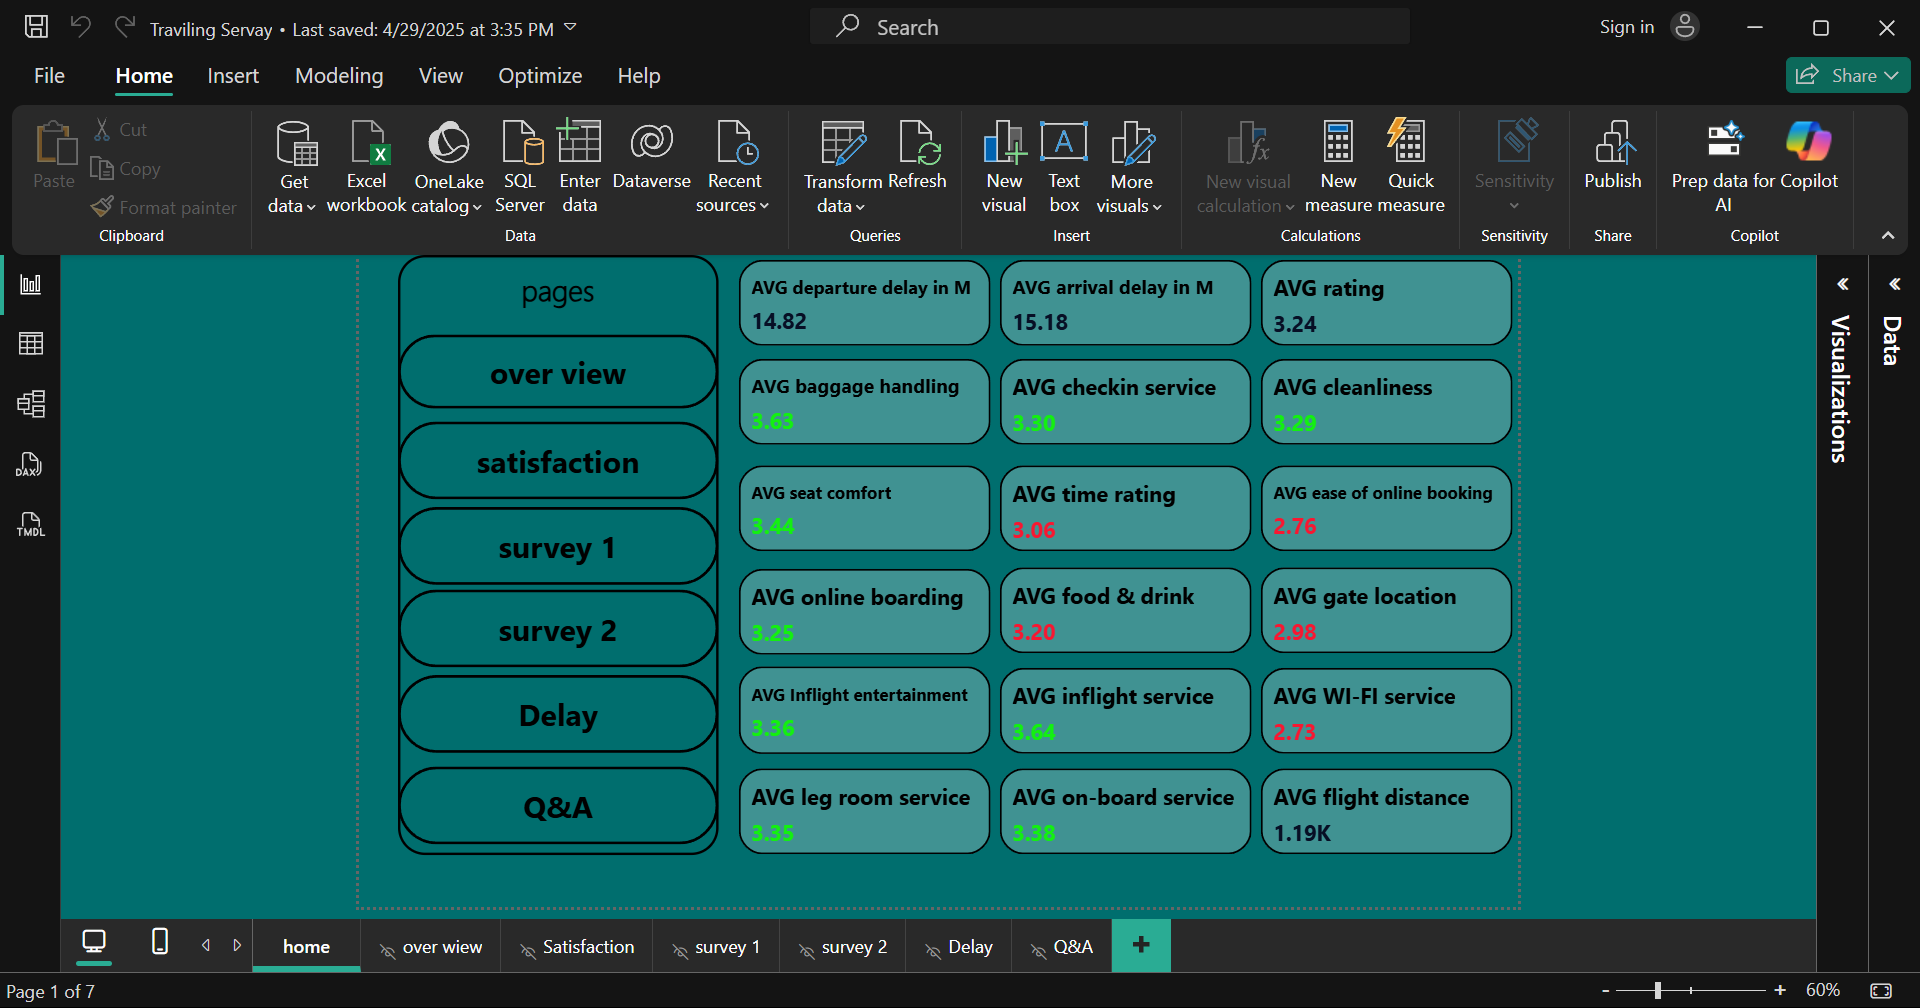

The dashboard page shown, as its layout file describes it:
{"tool":"powerbi","page":{"name":"home","canvas":[1280,720],"ordinal":0},"visuals":[{"type":"textbox","box":[43.6,0,353.8,662.3],"z":0},{"type":"actionButton","title":"over view","box":[43.6,87.3,353.8,81.8],"z":0,"group":"g1"},{"type":"group","id":"g1","title":"Group 1","box":[43.6,87.3,353.8,562.6],"z":1000},{"type":"actionButton","box":[43.6,369.3,353.8,86],"z":1000,"group":"g1"},{"type":"cardVisual","fields":{"Data":["Avg(train.Cleanliness)"]},"box":[991.2,109.1,288.3,106],"z":2000},{"type":"actionButton","box":[43.6,463.8,353.8,86],"z":2000,"group":"g1"},{"type":"cardVisual","fields":{"Data":["Avg(train.On-board service)"]},"box":[702.9,561,288.3,106],"z":3000},{"type":"actionButton","box":[43.6,563.9,353.8,86],"z":3000,"group":"g1"},{"type":"actionButton","box":[43.6,183.2,353.8,86],"z":4000,"group":"g1"},{"type":"cardVisual","fields":{"Data":["Avg(train.Inflight service)"]},"box":[702.9,450.4,288.3,106],"z":4000},{"type":"actionButton","box":[43.6,277.7,353.8,86],"z":5000,"group":"g1"},{"type":"cardVisual","fields":{"Data":["Avg(train.Food and drink)"]},"box":[702.9,339.7,288.3,106],"z":5000},{"type":"cardVisual","fields":{"Data":["Avg(train.Departure/Arrival time convenient)"]},"box":[702.9,227.5,288.3,106],"z":6000},{"type":"cardVisual","fields":{"Data":["Avg(train.Leg room service)"]},"box":[414.5,561,288.3,106],"z":7000},{"type":"cardVisual","fields":{"Data":["Avg(train.Inflight entertainment)"]},"box":[414.5,448.8,288.3,107.5],"z":8000},{"type":"cardVisual","fields":{"Data":["Avg(train.Flight Distance)"]},"box":[991.2,561,288.3,106],"z":9000},{"type":"cardVisual","fields":{"Data":["Avg(train.Departure Delay in Minutes)"]},"box":[414.5,0,288.3,106],"z":10000},{"type":"cardVisual","fields":{"Data":["Avg(train.Baggage handling)"]},"box":[414.5,109.1,288.3,106],"z":11000},{"type":"cardVisual","fields":{"Data":["Avg(train.Checkin service)"]},"box":[702.9,109.1,288.3,106],"z":12000},{"type":"cardVisual","fields":{"Data":["Avg(train.Seat comfort)"]},"box":[414.5,227.5,288.3,106],"z":13000},{"type":"cardVisual","fields":{"Data":["Avg(train.Arrival Delay in Minutes)"]},"box":[702.9,0,288.3,106],"z":14000},{"type":"cardVisual","fields":{"Data":["Avg(train.Ease of Online booking)"]},"box":[991.2,227.5,288.3,106],"z":15000},{"type":"cardVisual","fields":{"Data":["Avg(train.Gate location)"]},"box":[991.2,339.7,288.3,106],"z":16000},{"type":"cardVisual","fields":{"Data":["Avg(train.Inflight wifi service)"]},"box":[991.2,450.4,288.3,106],"z":17000},{"type":"cardVisual","fields":{"Data":["Avg(train.Online boarding)"]},"box":[414.5,341.3,288.3,106],"z":18000},{"type":"cardVisual","fields":{"Data":["Avg(train.AVG rating)"]},"box":[991.2,0,288.3,106],"z":19000}]}

Visuals, with their boxes on the page's 1280x720 design canvas (x1, y1, x2, y2). These are canvas units, not pixel positions in the 1920x1008 screenshot, which may show the page scaled, cropped or inside an application window:
textbox: locate(44, 0, 397, 662)
"over view" actionButton: locate(44, 87, 397, 169)
"Group 1" group: locate(44, 87, 397, 650)
actionButton: locate(44, 369, 397, 455)
cardVisual - Avg(train.Cleanliness): locate(991, 109, 1280, 215)
actionButton: locate(44, 464, 397, 550)
cardVisual - Avg(train.On-board service): locate(703, 561, 991, 667)
actionButton: locate(44, 564, 397, 650)
actionButton: locate(44, 183, 397, 269)
cardVisual - Avg(train.Inflight service): locate(703, 450, 991, 556)
actionButton: locate(44, 278, 397, 364)
cardVisual - Avg(train.Food and drink): locate(703, 340, 991, 446)
cardVisual - Avg(train.Departure/Arrival time convenient): locate(703, 228, 991, 334)
cardVisual - Avg(train.Leg room service): locate(414, 561, 703, 667)
cardVisual - Avg(train.Inflight entertainment): locate(414, 449, 703, 556)
cardVisual - Avg(train.Flight Distance): locate(991, 561, 1280, 667)
cardVisual - Avg(train.Departure Delay in Minutes): locate(414, 0, 703, 106)
cardVisual - Avg(train.Baggage handling): locate(414, 109, 703, 215)
cardVisual - Avg(train.Checkin service): locate(703, 109, 991, 215)
cardVisual - Avg(train.Seat comfort): locate(414, 228, 703, 334)
cardVisual - Avg(train.Arrival Delay in Minutes): locate(703, 0, 991, 106)
cardVisual - Avg(train.Ease of Online booking): locate(991, 228, 1280, 334)
cardVisual - Avg(train.Gate location): locate(991, 340, 1280, 446)
cardVisual - Avg(train.Inflight wifi service): locate(991, 450, 1280, 556)
cardVisual - Avg(train.Online boarding): locate(414, 341, 703, 447)
cardVisual - Avg(train.AVG rating): locate(991, 0, 1280, 106)
